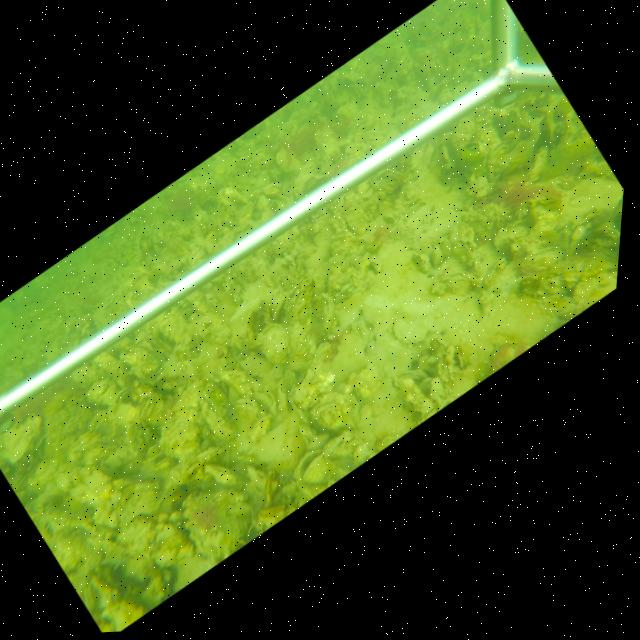Oyster-Closed: (311, 389, 361, 429), (520, 244, 567, 278), (255, 320, 290, 365), (135, 390, 169, 431), (392, 317, 430, 345), (225, 395, 263, 423), (311, 292, 336, 331), (85, 408, 114, 437), (249, 412, 273, 444), (108, 386, 130, 415), (277, 377, 292, 413), (429, 243, 445, 271), (439, 235, 452, 260), (353, 254, 366, 273), (341, 271, 354, 286), (338, 255, 350, 271), (330, 253, 341, 268)
Oyster-Indeterminate: (180, 489, 246, 559), (114, 477, 161, 530), (160, 413, 203, 465), (283, 276, 316, 334), (200, 401, 242, 444), (124, 420, 162, 462), (218, 366, 256, 402), (367, 168, 406, 194), (342, 204, 369, 238)
Oyster-Open: (293, 448, 332, 485), (448, 237, 477, 271)
